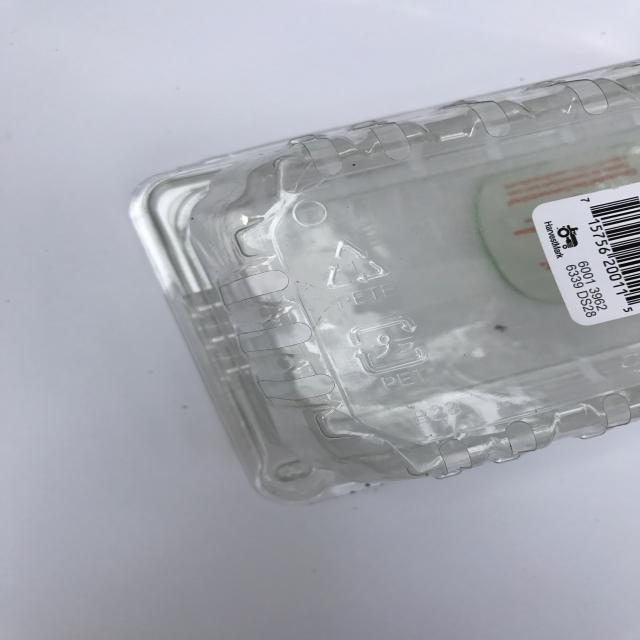Plastic: (100, 36, 640, 570)
